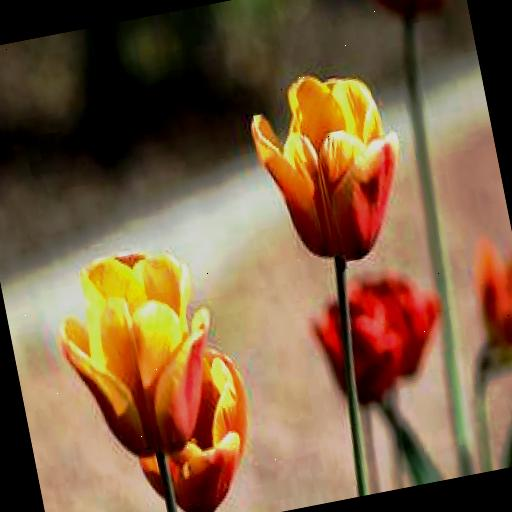tulip: (241, 58, 420, 280), (42, 238, 228, 449)
